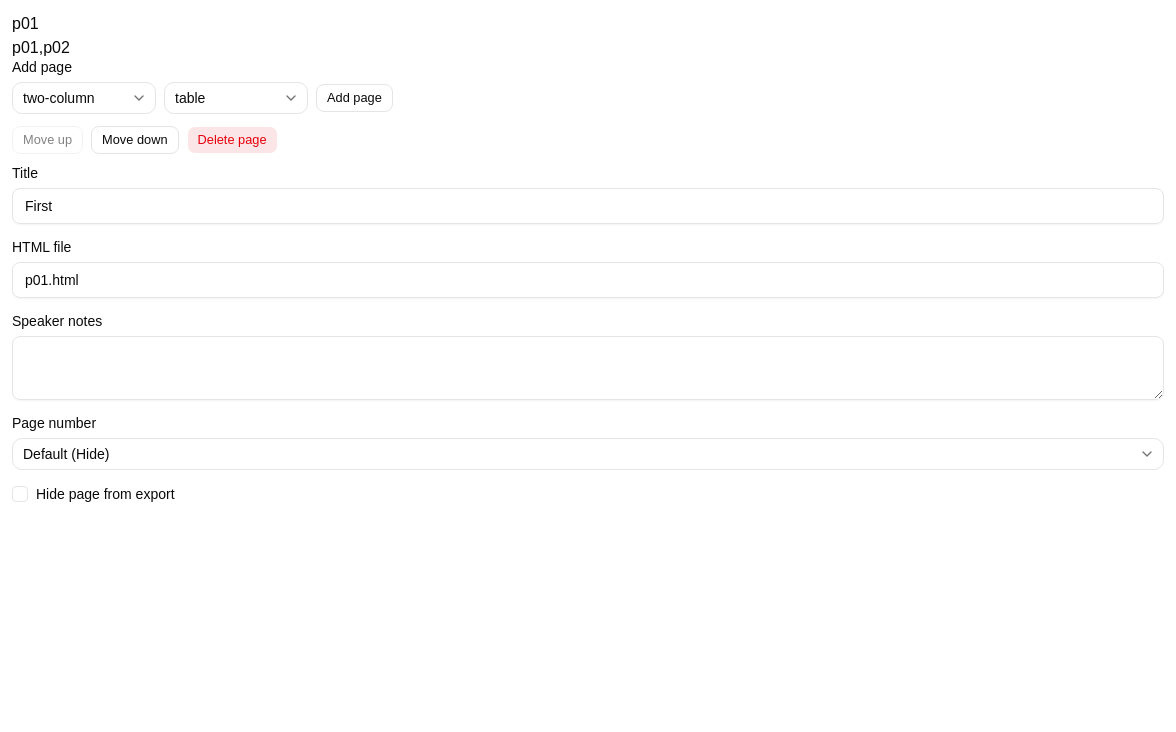
workshop page lifecycle › adds a next-actions page and shows its editor
What coordinates should you click on to do the following:
click the dropdown named "Add page"
I would click on:
 (84, 98)
Its box is top-left (12, 82), bottom-right (156, 114).
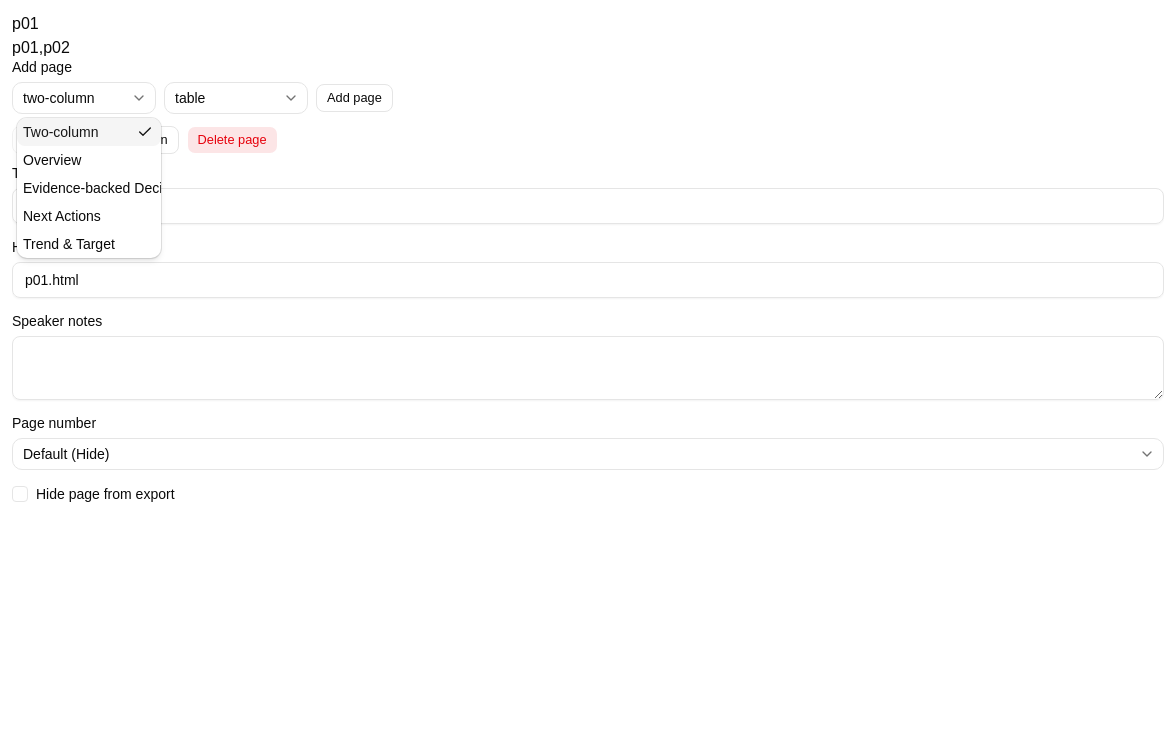
What coordinates should you click on to do the following:
click the option "Next Actions"
I would click on:
 (62, 216)
Its box is top-left (23, 208), bottom-right (101, 224).
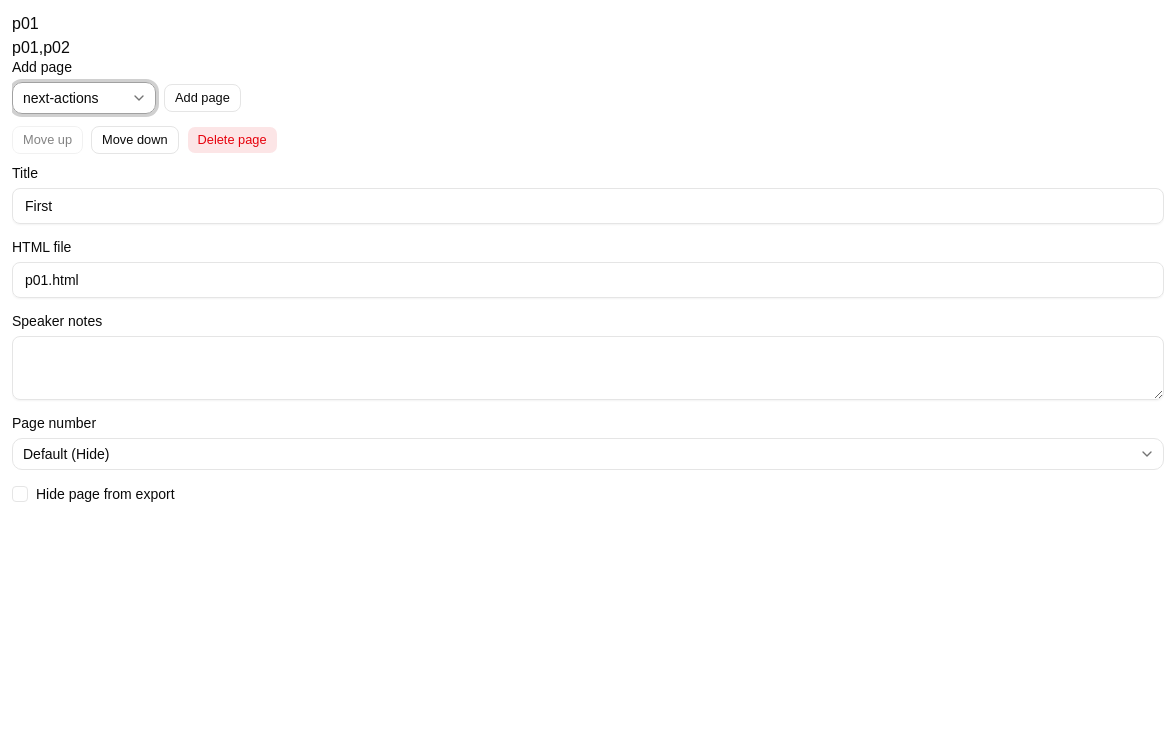
What coordinates should you click on to do the following:
click the button "Add page"
I would click on:
 (202, 98)
Its box is top-left (164, 84), bottom-right (241, 112).
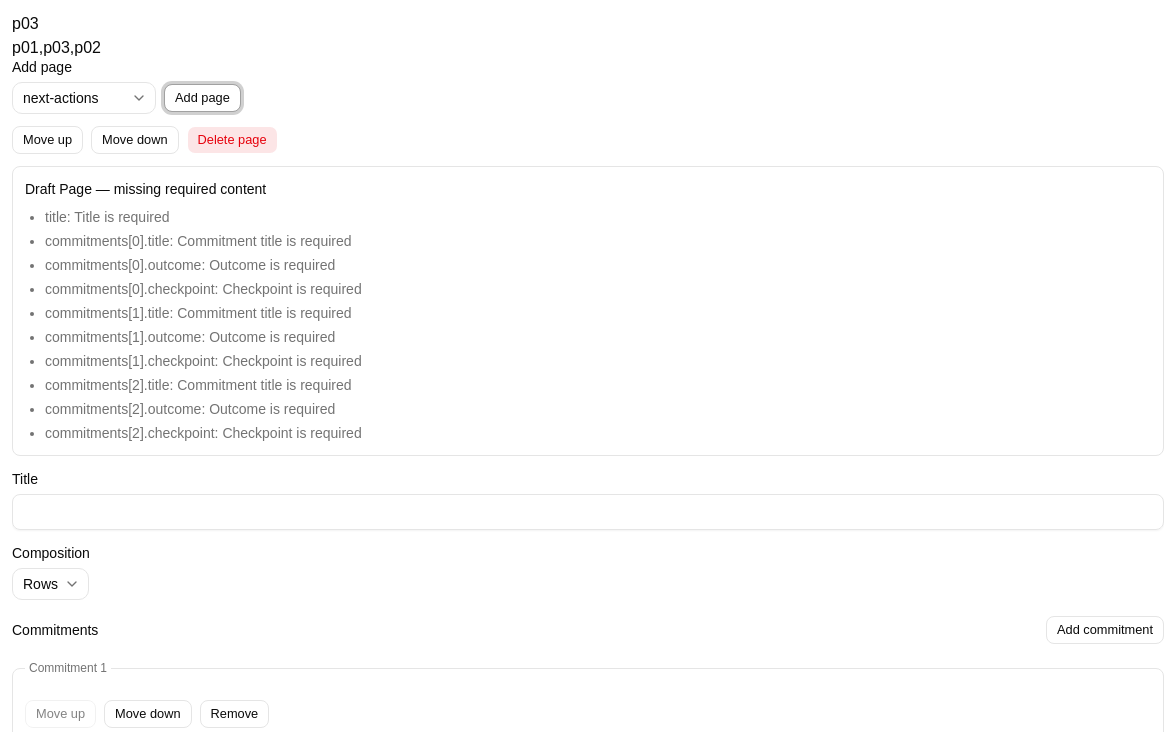
Result: the message shows "Draft Page" at top-left (25, 181), bottom-right (266, 197)
Result: the button "Add commitment" is shown at top-left (1046, 616), bottom-right (1164, 644)
Result: the number of buttons "Remove" is 3
